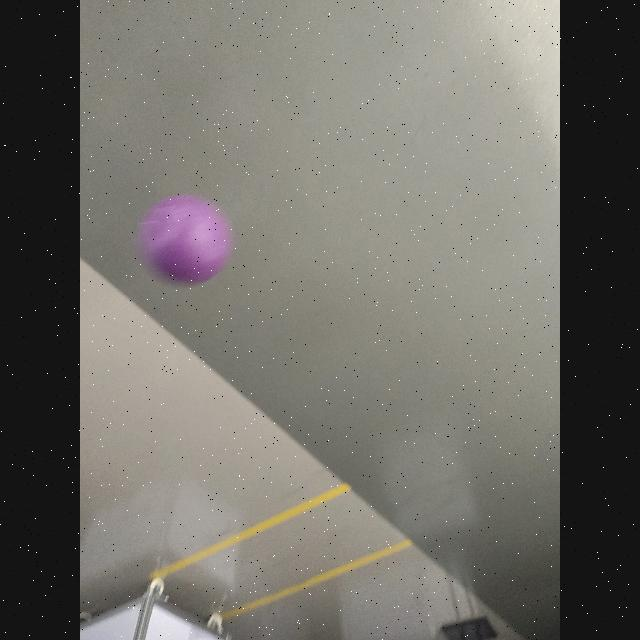P: (138, 195, 234, 287)
